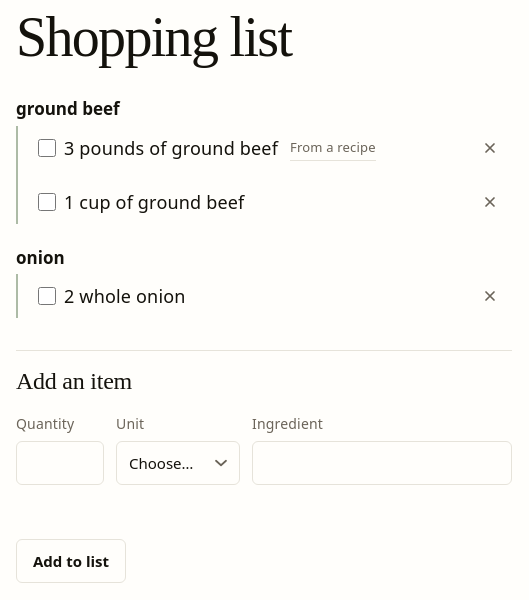
ShoppingList › drops the heading when its last line is removed
Step 1. Click the button named "Remove 2 whole onion" → coordinates (490, 296), box [468,274,512,318]
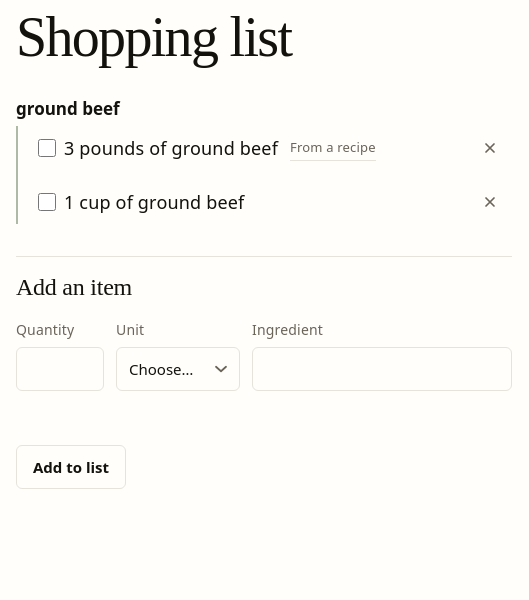
Expected: the heading "ground beef" is shown, [16,98,120,120]
Result: the text "2 whole onion" is gone
Result: the heading "onion" is gone
